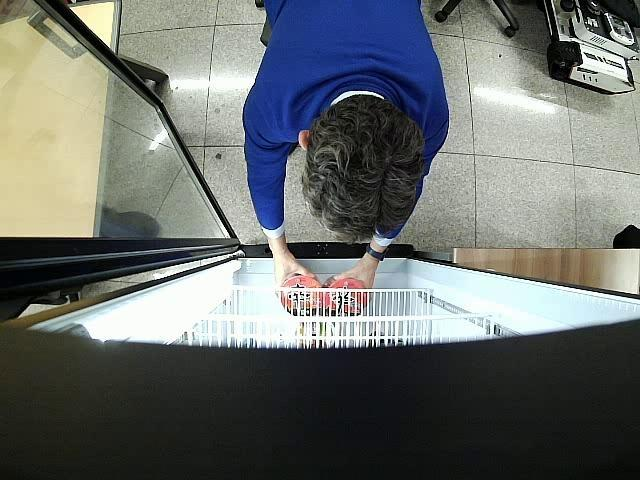01_ShinRamen_L: (280, 274, 324, 317), (324, 278, 367, 318)
